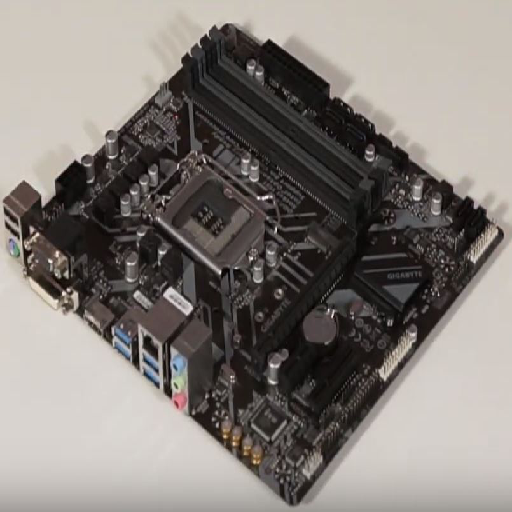CPU: (144, 163, 275, 273)
GPU: (251, 220, 370, 373)
MOTHERBOARD: (6, 22, 506, 505)
RAM: (176, 26, 388, 228)
SSD: (301, 222, 341, 257)
